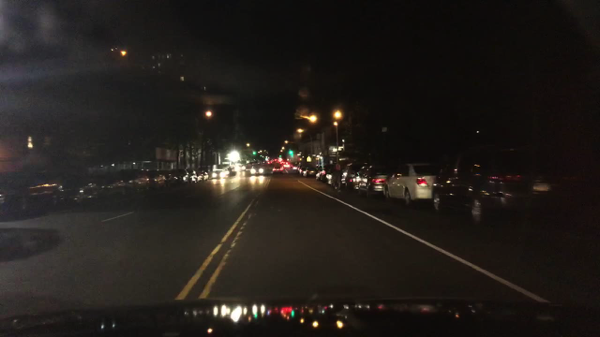car: (430, 144, 573, 226), (0, 170, 67, 216), (382, 161, 444, 205), (64, 176, 102, 211), (357, 162, 393, 196), (92, 175, 129, 203), (336, 161, 367, 191), (324, 158, 355, 187), (120, 169, 151, 196), (145, 169, 169, 194), (159, 169, 177, 191), (171, 169, 191, 186), (249, 162, 270, 176), (210, 169, 228, 182), (314, 169, 331, 182), (187, 170, 201, 185), (272, 162, 285, 176), (198, 169, 212, 182), (225, 166, 237, 177), (235, 162, 246, 172), (305, 167, 317, 176), (281, 160, 291, 169), (297, 166, 306, 176), (291, 162, 300, 170), (243, 158, 253, 165), (252, 159, 262, 165), (263, 159, 272, 165)
traffic sign: (250, 150, 259, 159), (330, 146, 339, 154), (305, 155, 313, 162), (288, 149, 294, 156)
